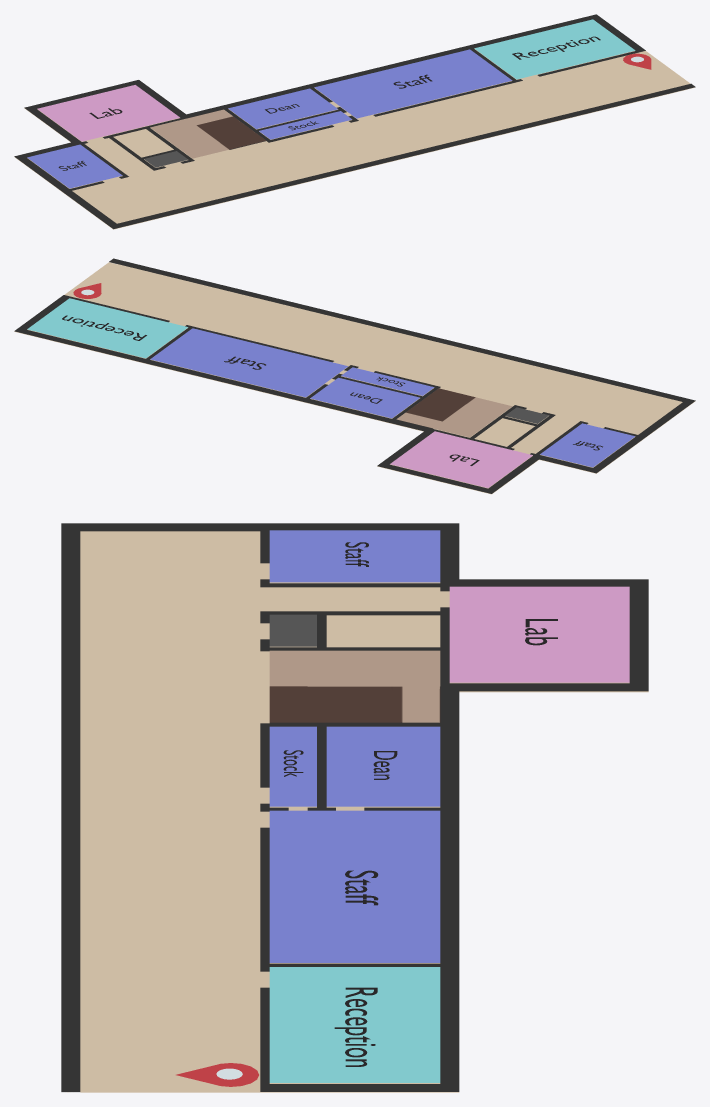
3 renders of one model, top to bottom at view 1: azimuth 30°, elevation 25°; view 2: azimuth 150°, elevation 25°; view 3: azimuth 270°, elevation 25°, orthographic. The views are drawn at different scales.
Visible parts, largest first — view 1: Plane.009, OuterWalls, Plane.001, Plane, Plane.007, Plane.004, InnerWalls, Plane.002, Plane.006, Plane.003, Plane.005; view 2: Plane.009, OuterWalls, Plane.001, Plane, Plane.007, Plane.004, InnerWalls, Plane.002, Plane.006, Plane.003, Plane.005; view 3: Plane.009, OuterWalls, Plane.001, Plane, Plane.007, Plane.004, InnerWalls, Plane.002, Plane.006, Plane.003, Plane.005, Circle (+1 smaller).
Boxes of the visible parts, bbox=[...] form: Plane.009: bbox=[14, 48, 694, 229]; OuterWalls: bbox=[14, 14, 695, 229]; Plane.001: bbox=[314, 49, 512, 118]; Plane: bbox=[474, 19, 635, 79]; Plane.007: bbox=[37, 85, 179, 141]; Plane.004: bbox=[150, 109, 265, 158]; InnerWalls: bbox=[70, 49, 637, 190]; Plane.002: bbox=[228, 88, 337, 128]; Plane.006: bbox=[27, 144, 122, 188]; Plane.003: bbox=[259, 111, 351, 139]; Plane.005: bbox=[144, 151, 187, 167]; Plane.009: bbox=[14, 262, 695, 494]; OuterWalls: bbox=[14, 258, 695, 493]; Plane.001: bbox=[150, 328, 347, 397]; Plane: bbox=[27, 298, 187, 358]; Plane.007: bbox=[390, 431, 532, 487]; Plane.004: bbox=[396, 388, 511, 437]; InnerWalls: bbox=[70, 297, 637, 456]; Plane.002: bbox=[310, 377, 419, 418]; Plane.006: bbox=[540, 423, 634, 467]; Plane.003: bbox=[341, 367, 434, 395]; Plane.005: bbox=[505, 407, 548, 423]; Plane.009: bbox=[67, 531, 648, 1092]; OuterWalls: bbox=[61, 523, 648, 1091]; Plane.001: bbox=[269, 810, 440, 962]; Plane: bbox=[269, 967, 440, 1082]; Plane.007: bbox=[449, 586, 629, 682]; Plane.004: bbox=[269, 650, 440, 722]; InnerWalls: bbox=[260, 531, 449, 1083]; Plane.002: bbox=[326, 726, 440, 806]; Plane.006: bbox=[269, 530, 440, 582]; Plane.003: bbox=[269, 726, 316, 806]; Plane.005: bbox=[269, 614, 316, 646]; Circle: bbox=[176, 1063, 258, 1086].
Bounding box in the file's own units: 14.2 × 0.03 × 6.2.
10 materials, 1 textured.
